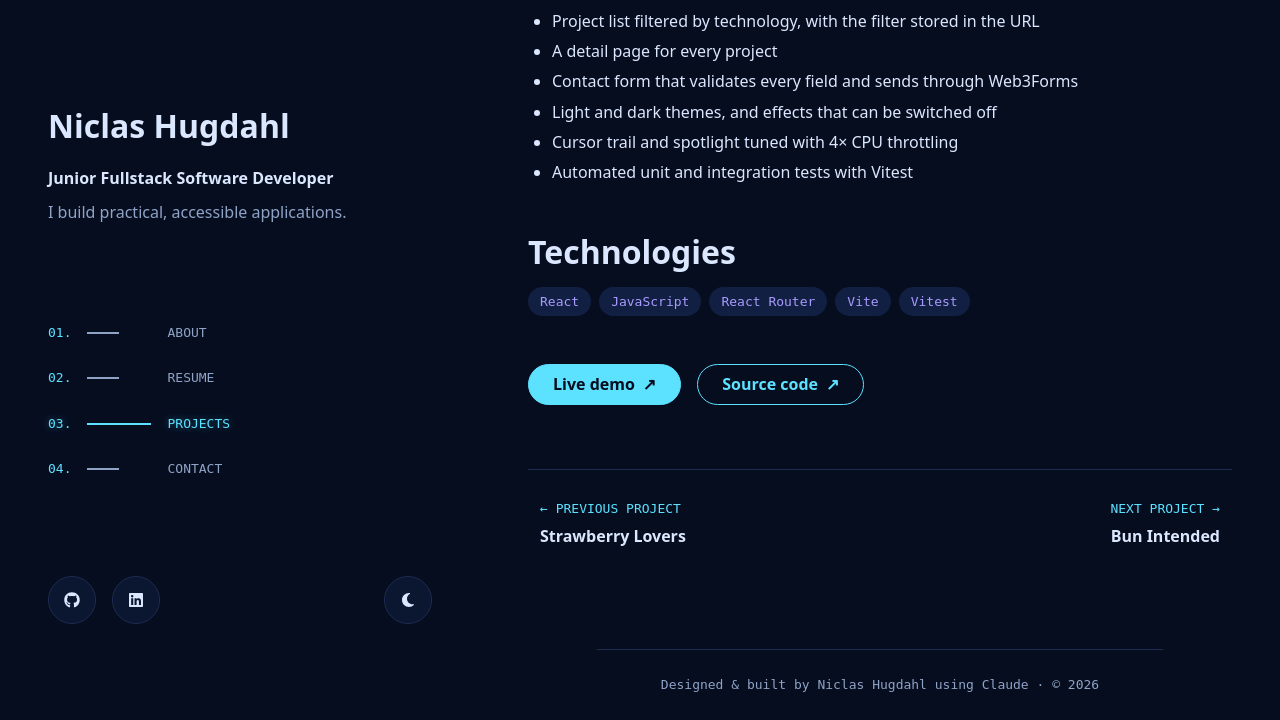
projects flow › wraps around: 'Previous project' on the first project opens the last
The image size is (1280, 720).
(page scrolled)
Click the link "← Previous project Strawberry Lovers". click: (613, 523)
box: [528,494,698,553]
(page scrolled)
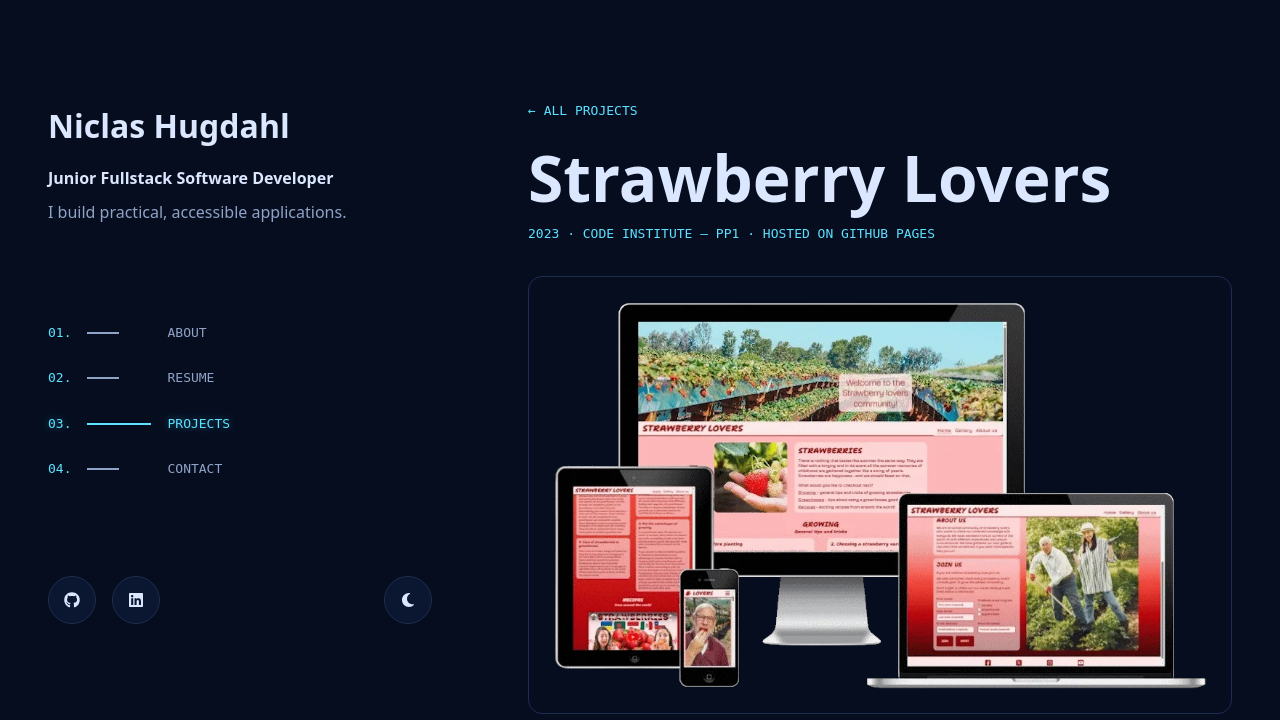
Check: the heading "Strawberry Lovers" is shown, box [528,134,1111,221]
